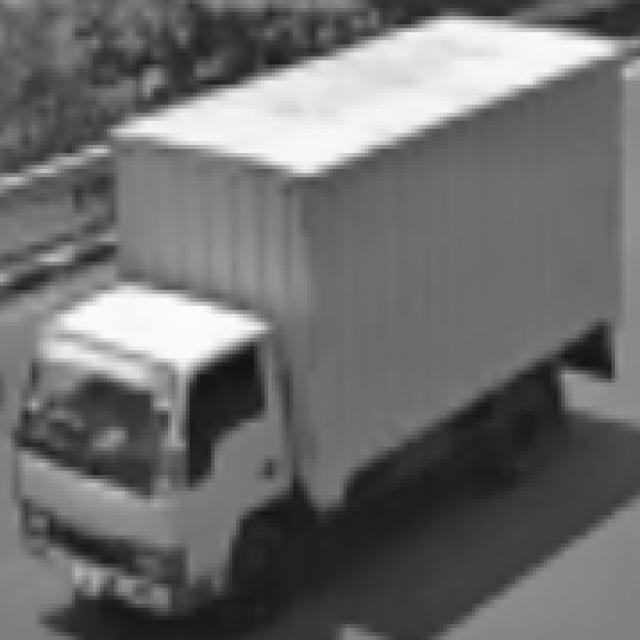truck: (1, 264, 315, 628)
